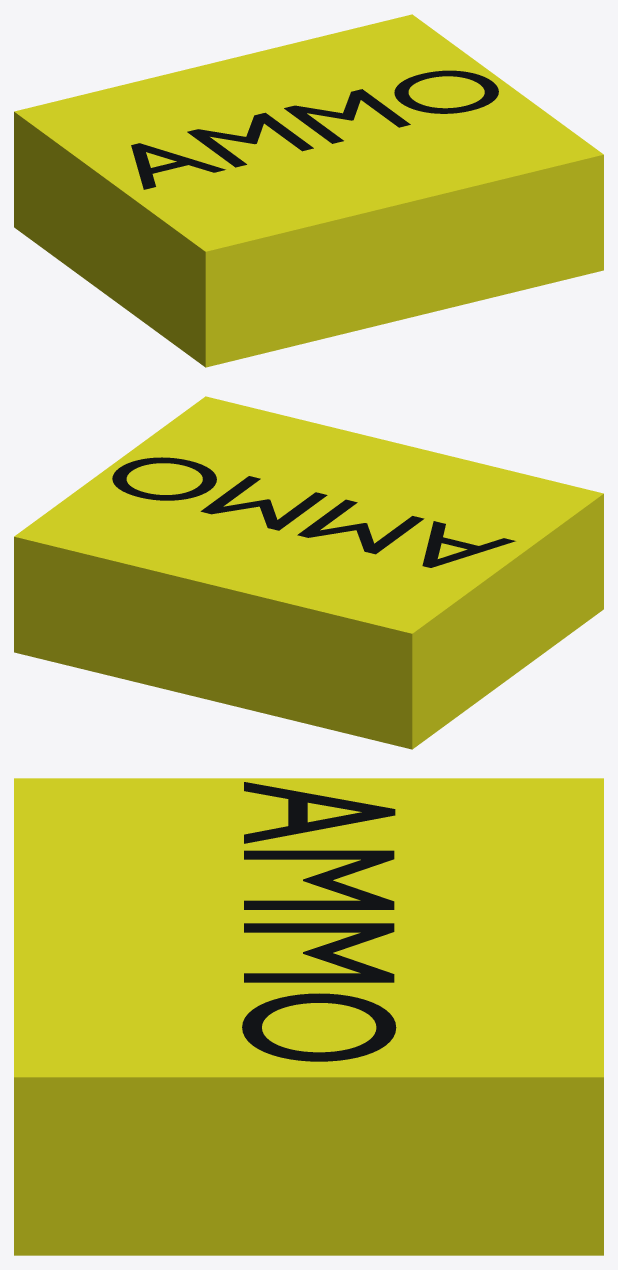
Rendered from cartridges.fbx.
3 renders of one model, top to bottom at view 1: azimuth 30°, elevation 25°; view 2: azimuth 150°, elevation 25°; view 3: azimuth 270°, elevation 25°, orthographic. The views are drawn at different scales.
Parts seen in each view (by area): view 1: Cube, Text; view 2: Cube, Text; view 3: Cube, Text.
Part boxes in pixels (bbox=[...]): Cube: bbox=[14, 14, 603, 367]; Text: bbox=[131, 70, 498, 189]; Cube: bbox=[14, 396, 603, 749]; Text: bbox=[112, 457, 515, 567]; Cube: bbox=[14, 778, 603, 1255]; Text: bbox=[242, 782, 396, 1061].
Bounding box in the file's own units: 360 × 103 × 300.
